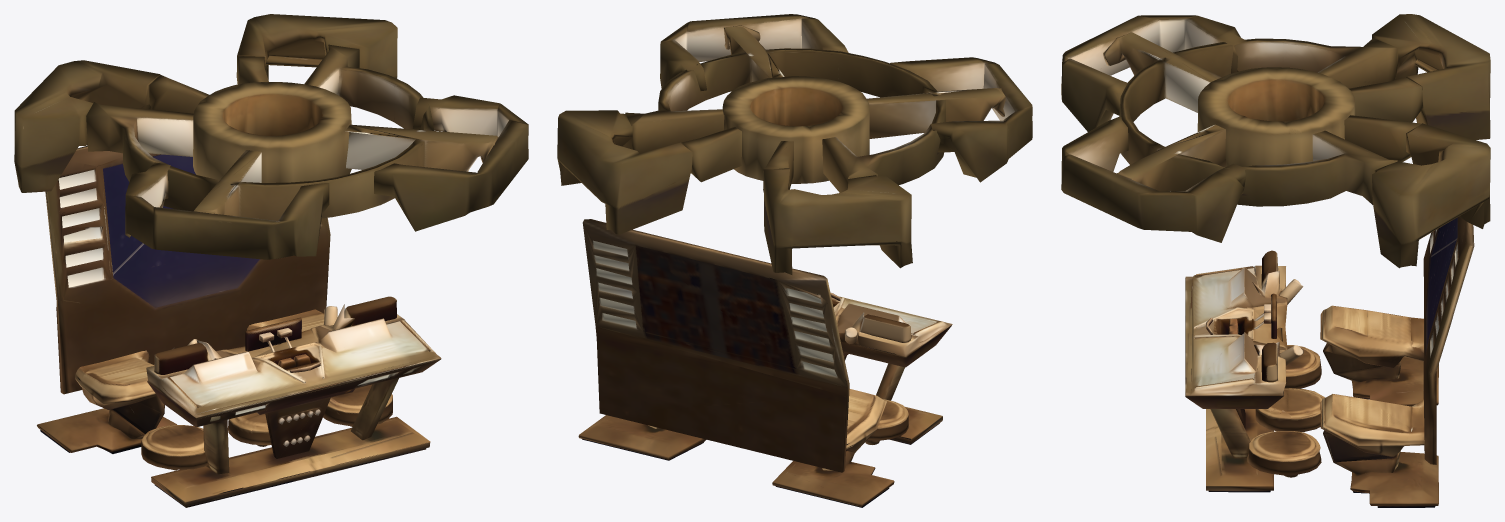
The model's file is sala-1.glb.
The picture shows the model from 3 angles, left to right: view 1: azimuth 30°, elevation 25°; view 2: azimuth 150°, elevation 25°; view 3: azimuth 270°, elevation 25°; orthographic projection. The views are drawn at different scales.
Visible parts, largest first — view 1: geometry_0; view 2: geometry_0; view 3: geometry_0.
Part boxes in pixels (left/top/right/bottom): geometry_0: left=14, top=14, right=528, bottom=507; geometry_0: left=557, top=14, right=1032, bottom=507; geometry_0: left=1061, top=14, right=1490, bottom=507.
Size of the model in its own units: 0.9497 by 0.8154 by 0.9482.
1 material, 1 textured.
